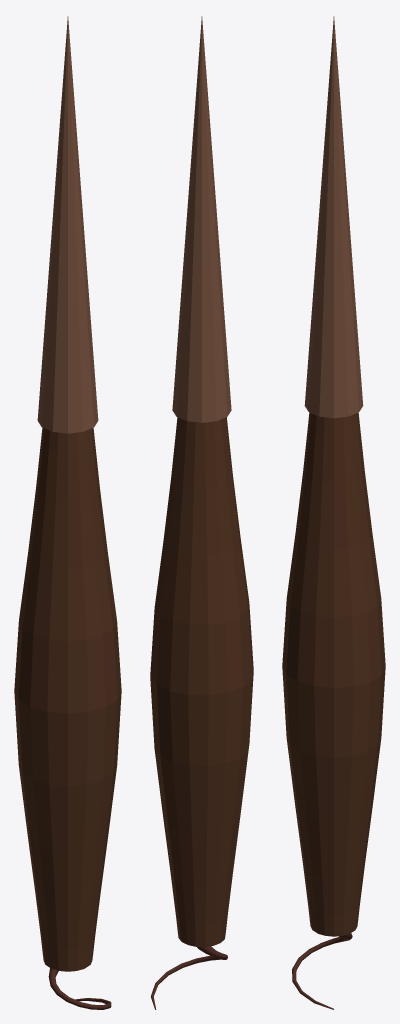
The model's file is Wand 129.glb.
The picture shows the model from 3 angles, left to right: view 1: azimuth 90°, elevation 25°; view 2: azimuth 210°, elevation 25°; view 3: azimuth 270°, elevation 25°; orthographic projection. The views are drawn at different scales.
Visible parts, largest first — view 1: GeneratedWand; view 2: GeneratedWand; view 3: GeneratedWand.
Boxes of the visible parts, bbox=[...] form: GeneratedWand: bbox=[14, 16, 121, 1009]; GeneratedWand: bbox=[150, 16, 253, 1009]; GeneratedWand: bbox=[282, 16, 385, 1009].
Size of the model in its own units: 0.0507 by 0.5178 by 0.0499.
